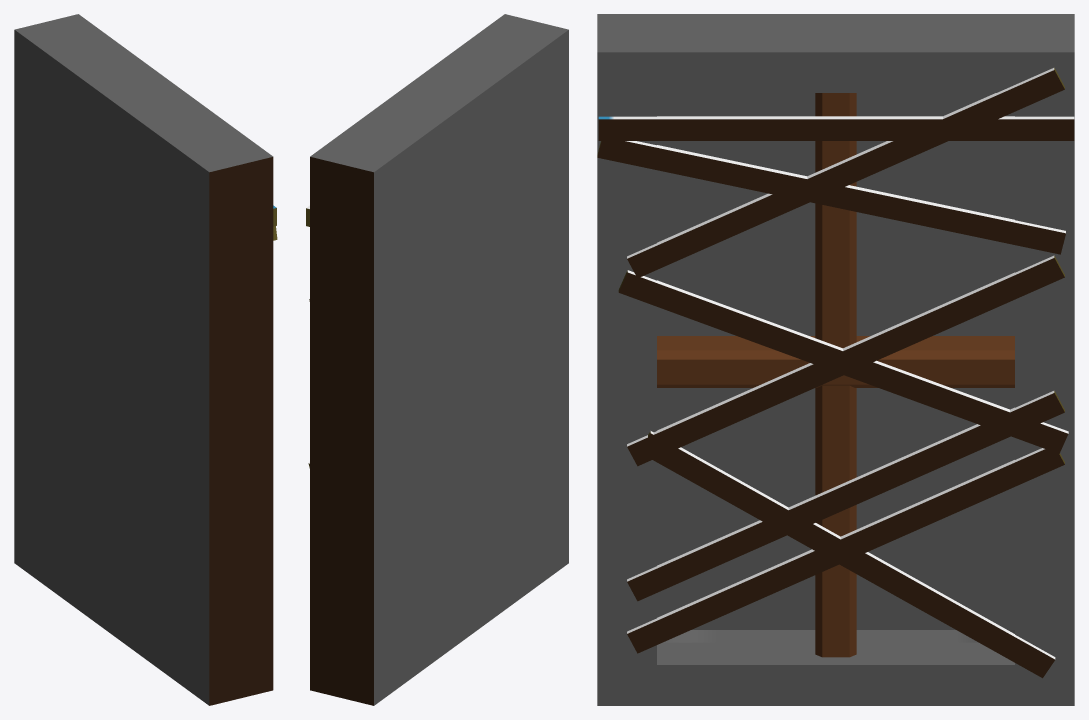
Rendered from BarredWindowColored.fbx.
3 renders of one model, left to right at view 1: azimuth 30°, elevation 25°; view 2: azimuth 150°, elevation 25°; view 3: azimuth 270°, elevation 25°, orthographic. The views are drawn at different scales.
Parts seen in each view (by area): view 1: Cube.006; view 2: Cube.006; view 3: Cube.006.
Part boxes in pixels (x1=…): Cube.006: x1=14, y1=14, x2=277, y2=705; Cube.006: x1=306, y1=14, x2=568, y2=705; Cube.006: x1=597, y1=14, x2=1074, y2=705.
Bounding box in the file's own units: 106 × 795 × 527.
